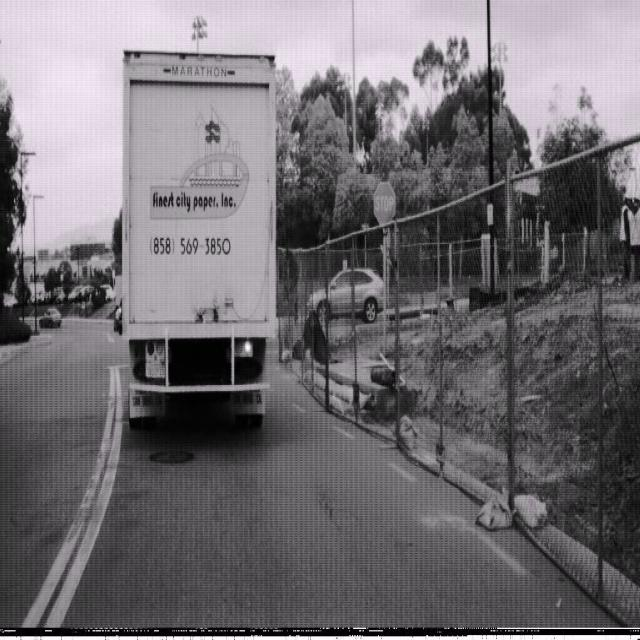stop_sign: (372, 180, 397, 227)
